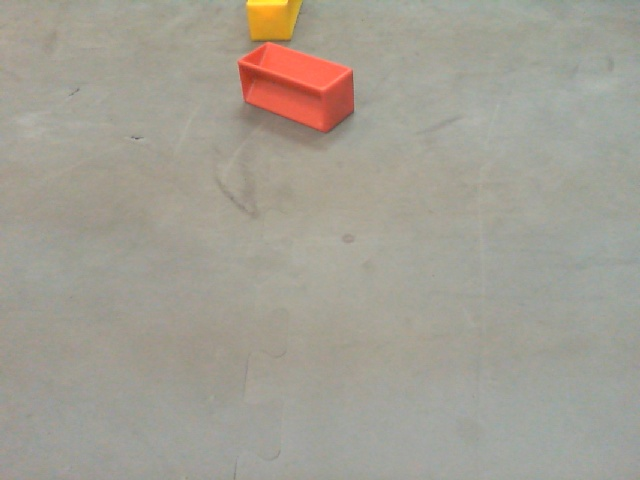RedSample: (236, 41, 355, 133)
YellowSample: (245, 1, 301, 43)
